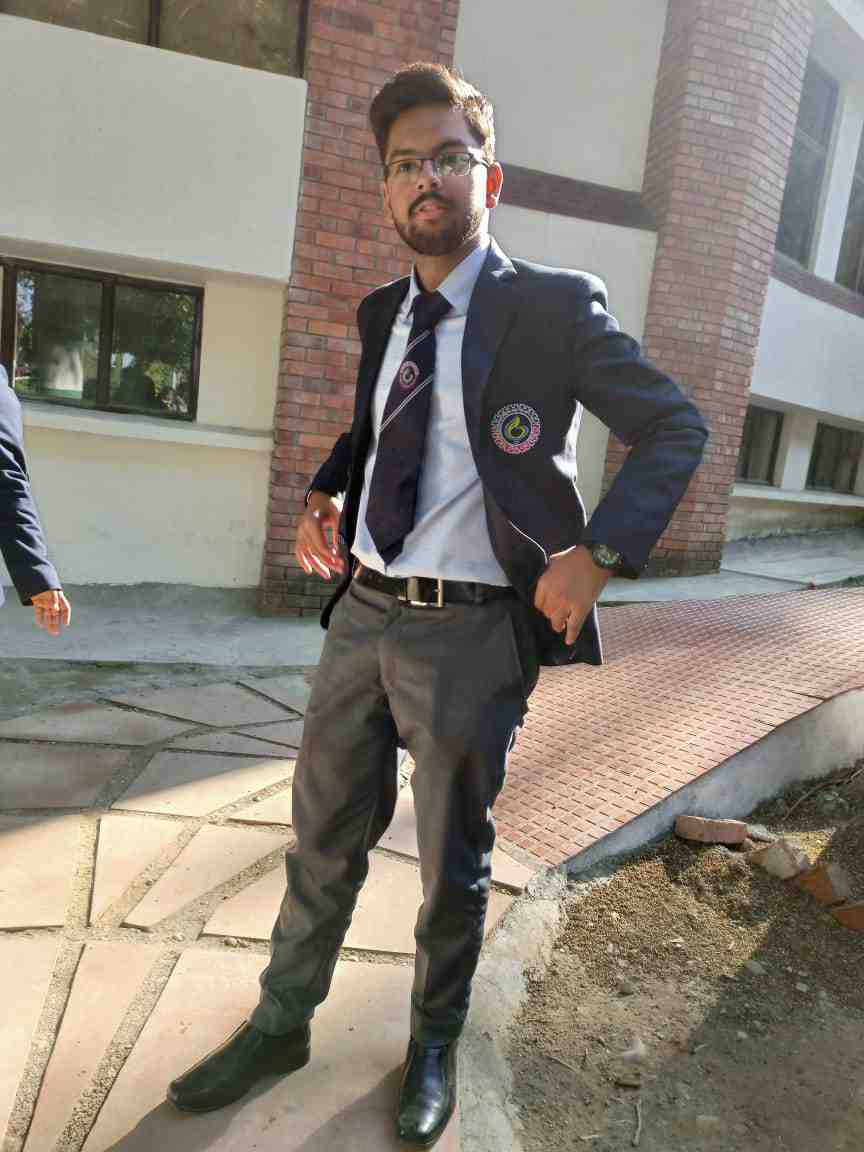blazer: (325, 266, 698, 675)
pant: (271, 581, 546, 1053)
tie: (350, 288, 452, 550)
